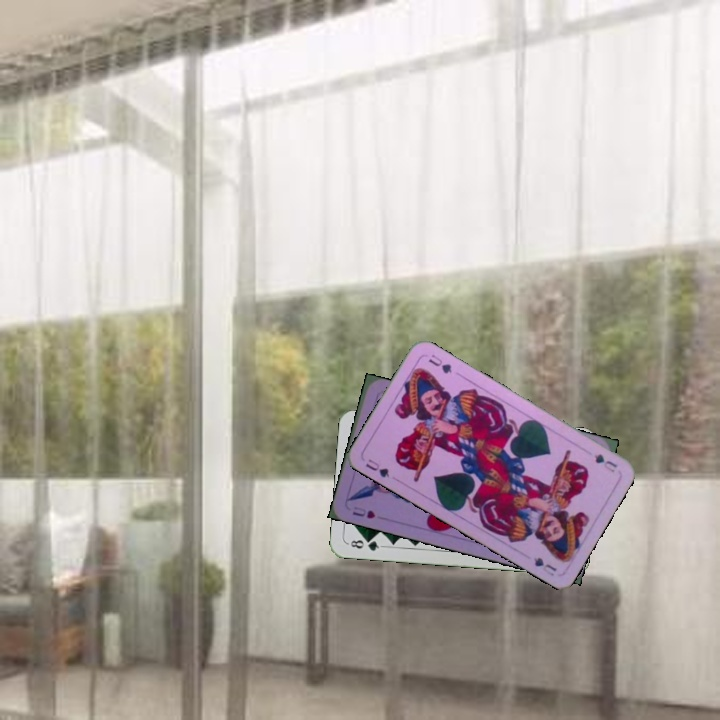G8: (344, 535, 385, 554)
GU: (361, 455, 392, 480), (590, 450, 620, 475)
HU: (348, 504, 378, 521)
